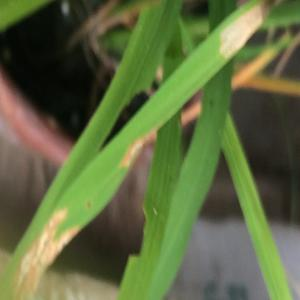Rice_Blast: (1, 200, 72, 287), (112, 119, 161, 163)
